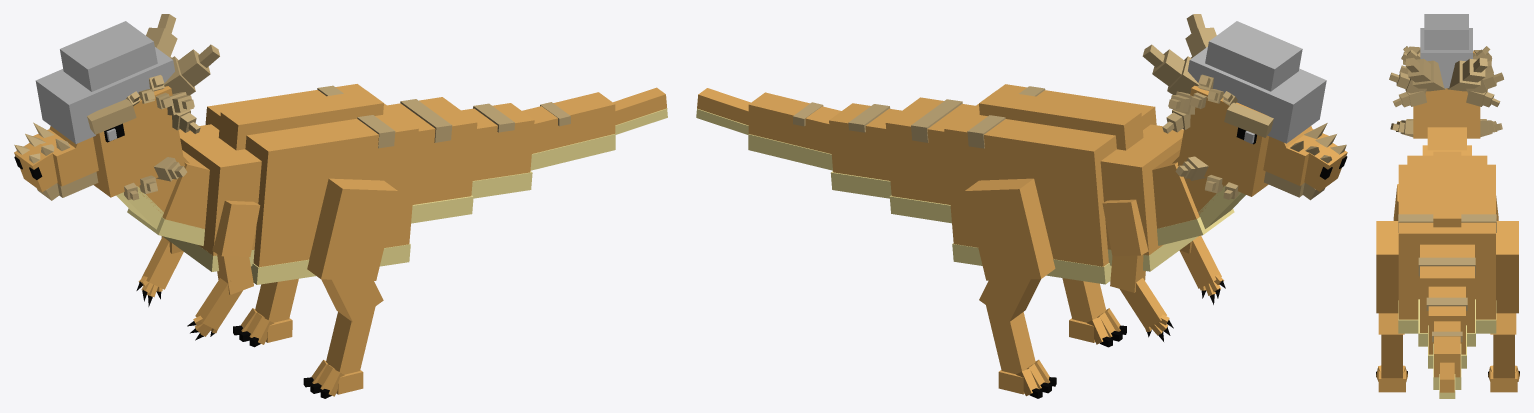
The model's file is lod_pachycephalosaur.obj.
3 renders of one model, left to right at view 1: azimuth 30°, elevation 25°; view 2: azimuth 150°, elevation 25°; view 3: azimuth 270°, elevation 25°, orthographic. The views are drawn at different scales.
Visible parts, largest first — view 1: lod_pachycephalosaur; view 2: lod_pachycephalosaur; view 3: lod_pachycephalosaur.
Part boxes in pixels (<box>): lod_pachycephalosaur: <box>14,14,667,398</box>; lod_pachycephalosaur: <box>696,14,1347,398</box>; lod_pachycephalosaur: <box>1376,14,1519,398</box>.
Bounding box in the file's own units: 16.87 × 9.33 × 4.14.
